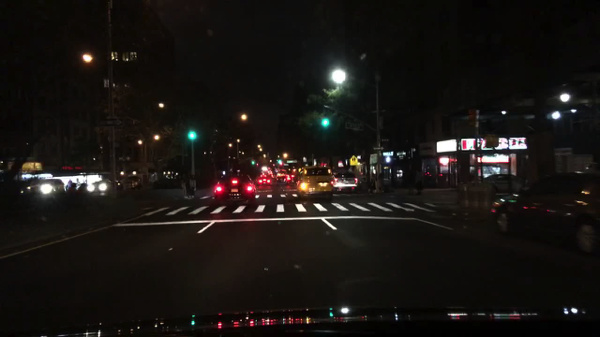car: (489, 168, 599, 260), (212, 171, 258, 205), (294, 164, 334, 200), (480, 173, 532, 193), (22, 177, 66, 199), (330, 169, 360, 192), (86, 177, 123, 194), (119, 176, 145, 193), (256, 174, 272, 186), (283, 173, 298, 184)
person: (414, 164, 425, 195), (187, 172, 198, 202), (407, 162, 416, 197), (343, 120, 367, 132), (179, 173, 188, 202)
traffic light: (465, 106, 478, 129), (483, 134, 499, 148), (187, 128, 199, 142), (321, 115, 331, 129), (251, 160, 256, 166)
traffic sign: (349, 155, 359, 167), (372, 145, 385, 152)
